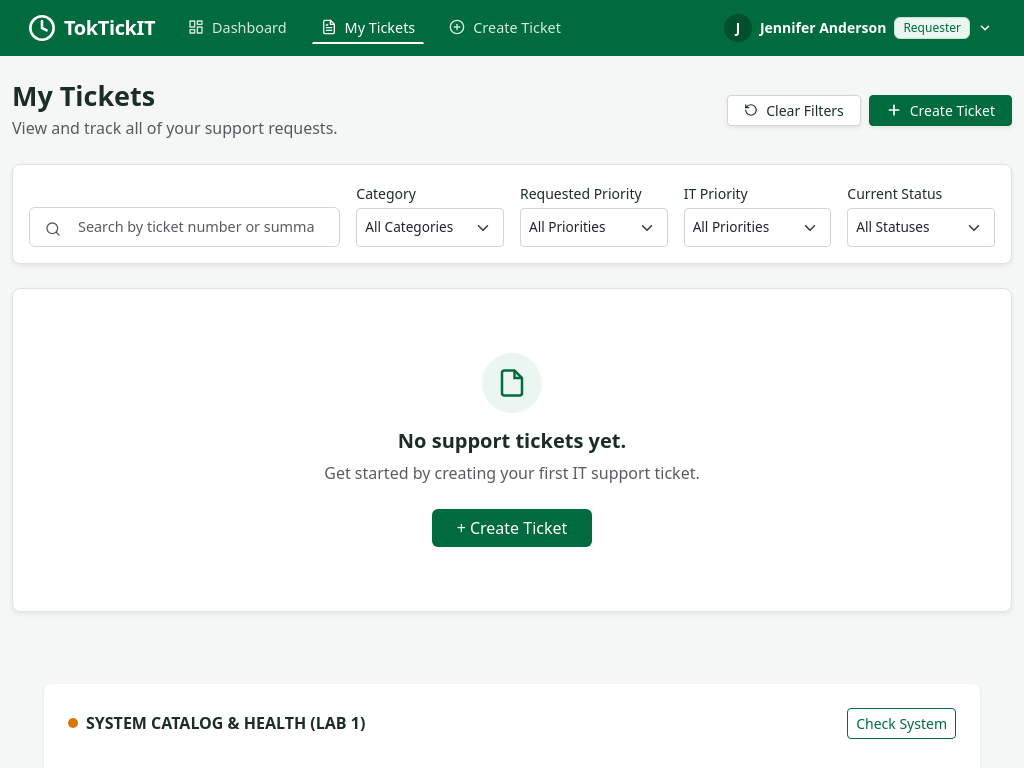
Test: Lab 2 My Tickets UI Tests (UI-05, UI-06, UI-07) › UI-07: displays specific empty message when user has 0 tickets vs no matching filter results (FR-10, FR-11)
Expected: the heading "No support tickets yet." is shown, [398,427,626,454]
Expected: the text "Get started by creating your first IT support ticket." is shown, [312,461,712,485]
Type "nonexistent" into the field with placeholder "Search by ticket number or summary..." at (185,227), box [29,207,340,247]
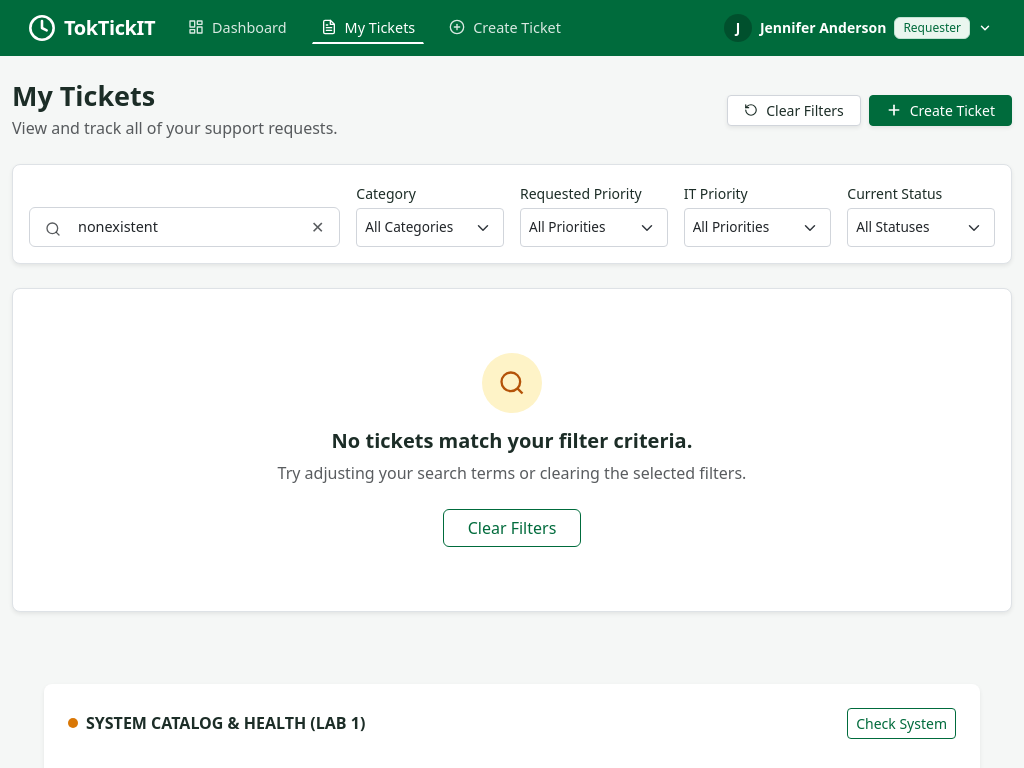
Expected: the heading "No tickets match your filter criteria." is shown, [332,427,692,454]
